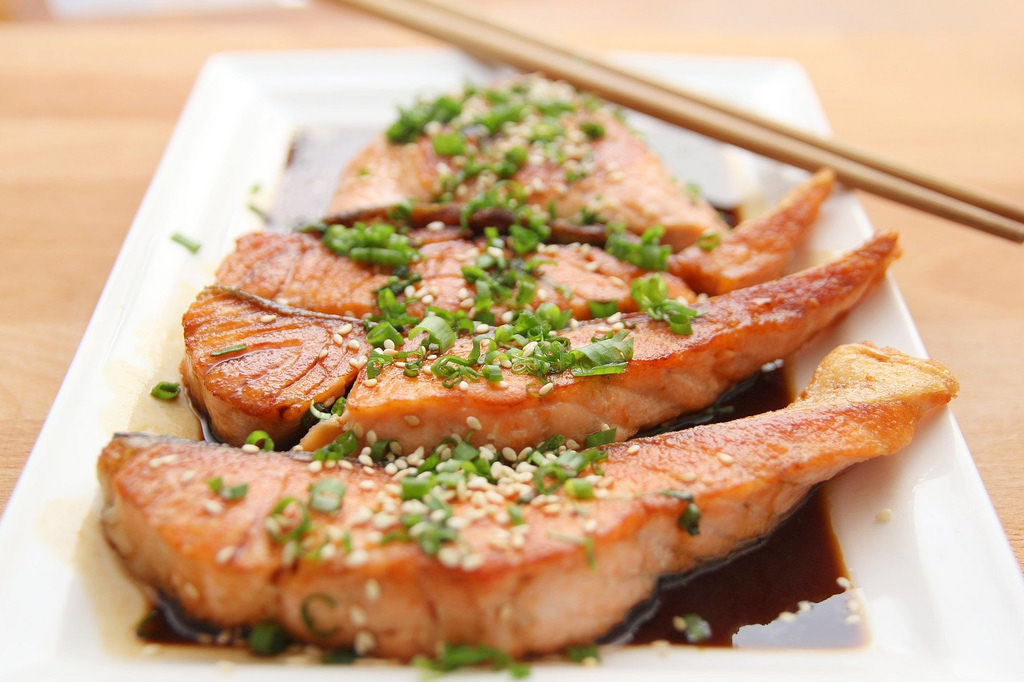chopped lettuce: (381, 305, 452, 341)
